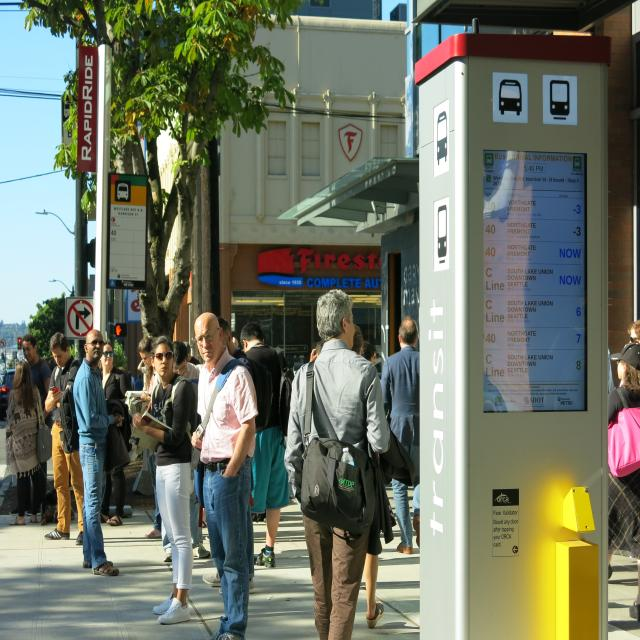body: (282, 288, 392, 640), (188, 309, 259, 640), (132, 334, 195, 624), (71, 328, 125, 577), (240, 320, 292, 570), (352, 322, 386, 631), (607, 341, 640, 621), (170, 340, 212, 560), (381, 317, 419, 555), (44, 332, 84, 546), (5, 359, 54, 526), (99, 340, 133, 526), (136, 332, 166, 540), (20, 334, 54, 412), (218, 317, 246, 361), (607, 344, 616, 394), (360, 341, 376, 367), (134, 373, 144, 413), (627, 318, 640, 344), (184, 342, 198, 362), (310, 340, 322, 360), (127, 371, 136, 391), (118, 365, 125, 372)
